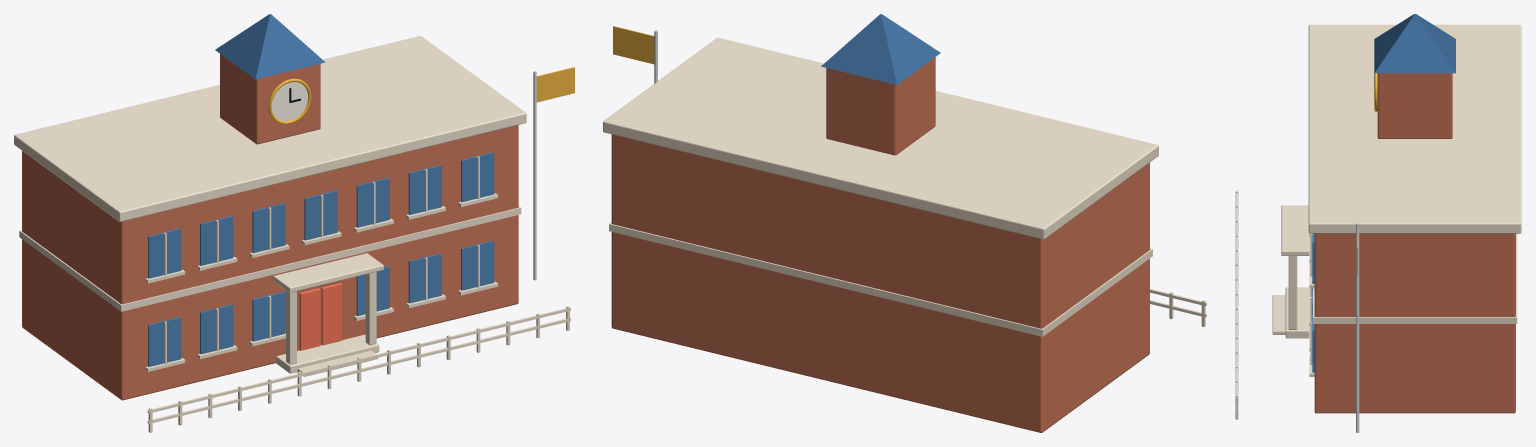
Rendered from school_building.glb.
3 renders of one model, left to right at view 1: azimuth 30°, elevation 25°; view 2: azimuth 150°, elevation 25°; view 3: azimuth 270°, elevation 25°, orthographic. The views are drawn at different scales.
Visible parts, largest first — view 1: main, cornice, tower, band, towerRoof, canopy, fenceRail, fenceRail2, porch, win0_6, win1_0, win1_2 (+18 smaller); view 2: main, cornice, tower, band, towerRoof, flag; view 3: cornice, main, tower, towerRoof, band, canopy, porch, flagpole, col1, step, fenceRail.
Part boxes in pixels (x1,y1,x2,y2): main: (22, 125, 518, 400); cornice: (14, 36, 526, 221); tower: (220, 54, 320, 144); band: (19, 206, 521, 311); towerRoof: (215, 14, 325, 79); canopy: (273, 253, 383, 292); fenceRail: (147, 307, 570, 413); fenceRail2: (147, 318, 570, 423); porch: (276, 334, 379, 373); win0_6: (461, 240, 494, 290); win1_0: (148, 228, 181, 278); win1_2: (252, 203, 285, 253); main: (611, 134, 1149, 432); cornice: (603, 37, 1158, 239); tower: (826, 57, 935, 155); band: (609, 222, 1152, 336); towerRoof: (821, 14, 940, 84); flag: (613, 26, 654, 64); cornice: (1308, 24, 1521, 233); main: (1314, 233, 1515, 413); tower: (1377, 73, 1452, 138); towerRoof: (1374, 14, 1455, 73); band: (1313, 233, 1517, 323); canopy: (1281, 205, 1310, 255); porch: (1285, 287, 1310, 338); flagpole: (1356, 223, 1359, 432); col1: (1288, 256, 1297, 329); step: (1272, 295, 1285, 334); fenceRail: (1235, 193, 1237, 400).
Bounding box in the file's own units: 19.6 × 11.6 × 9.95.
